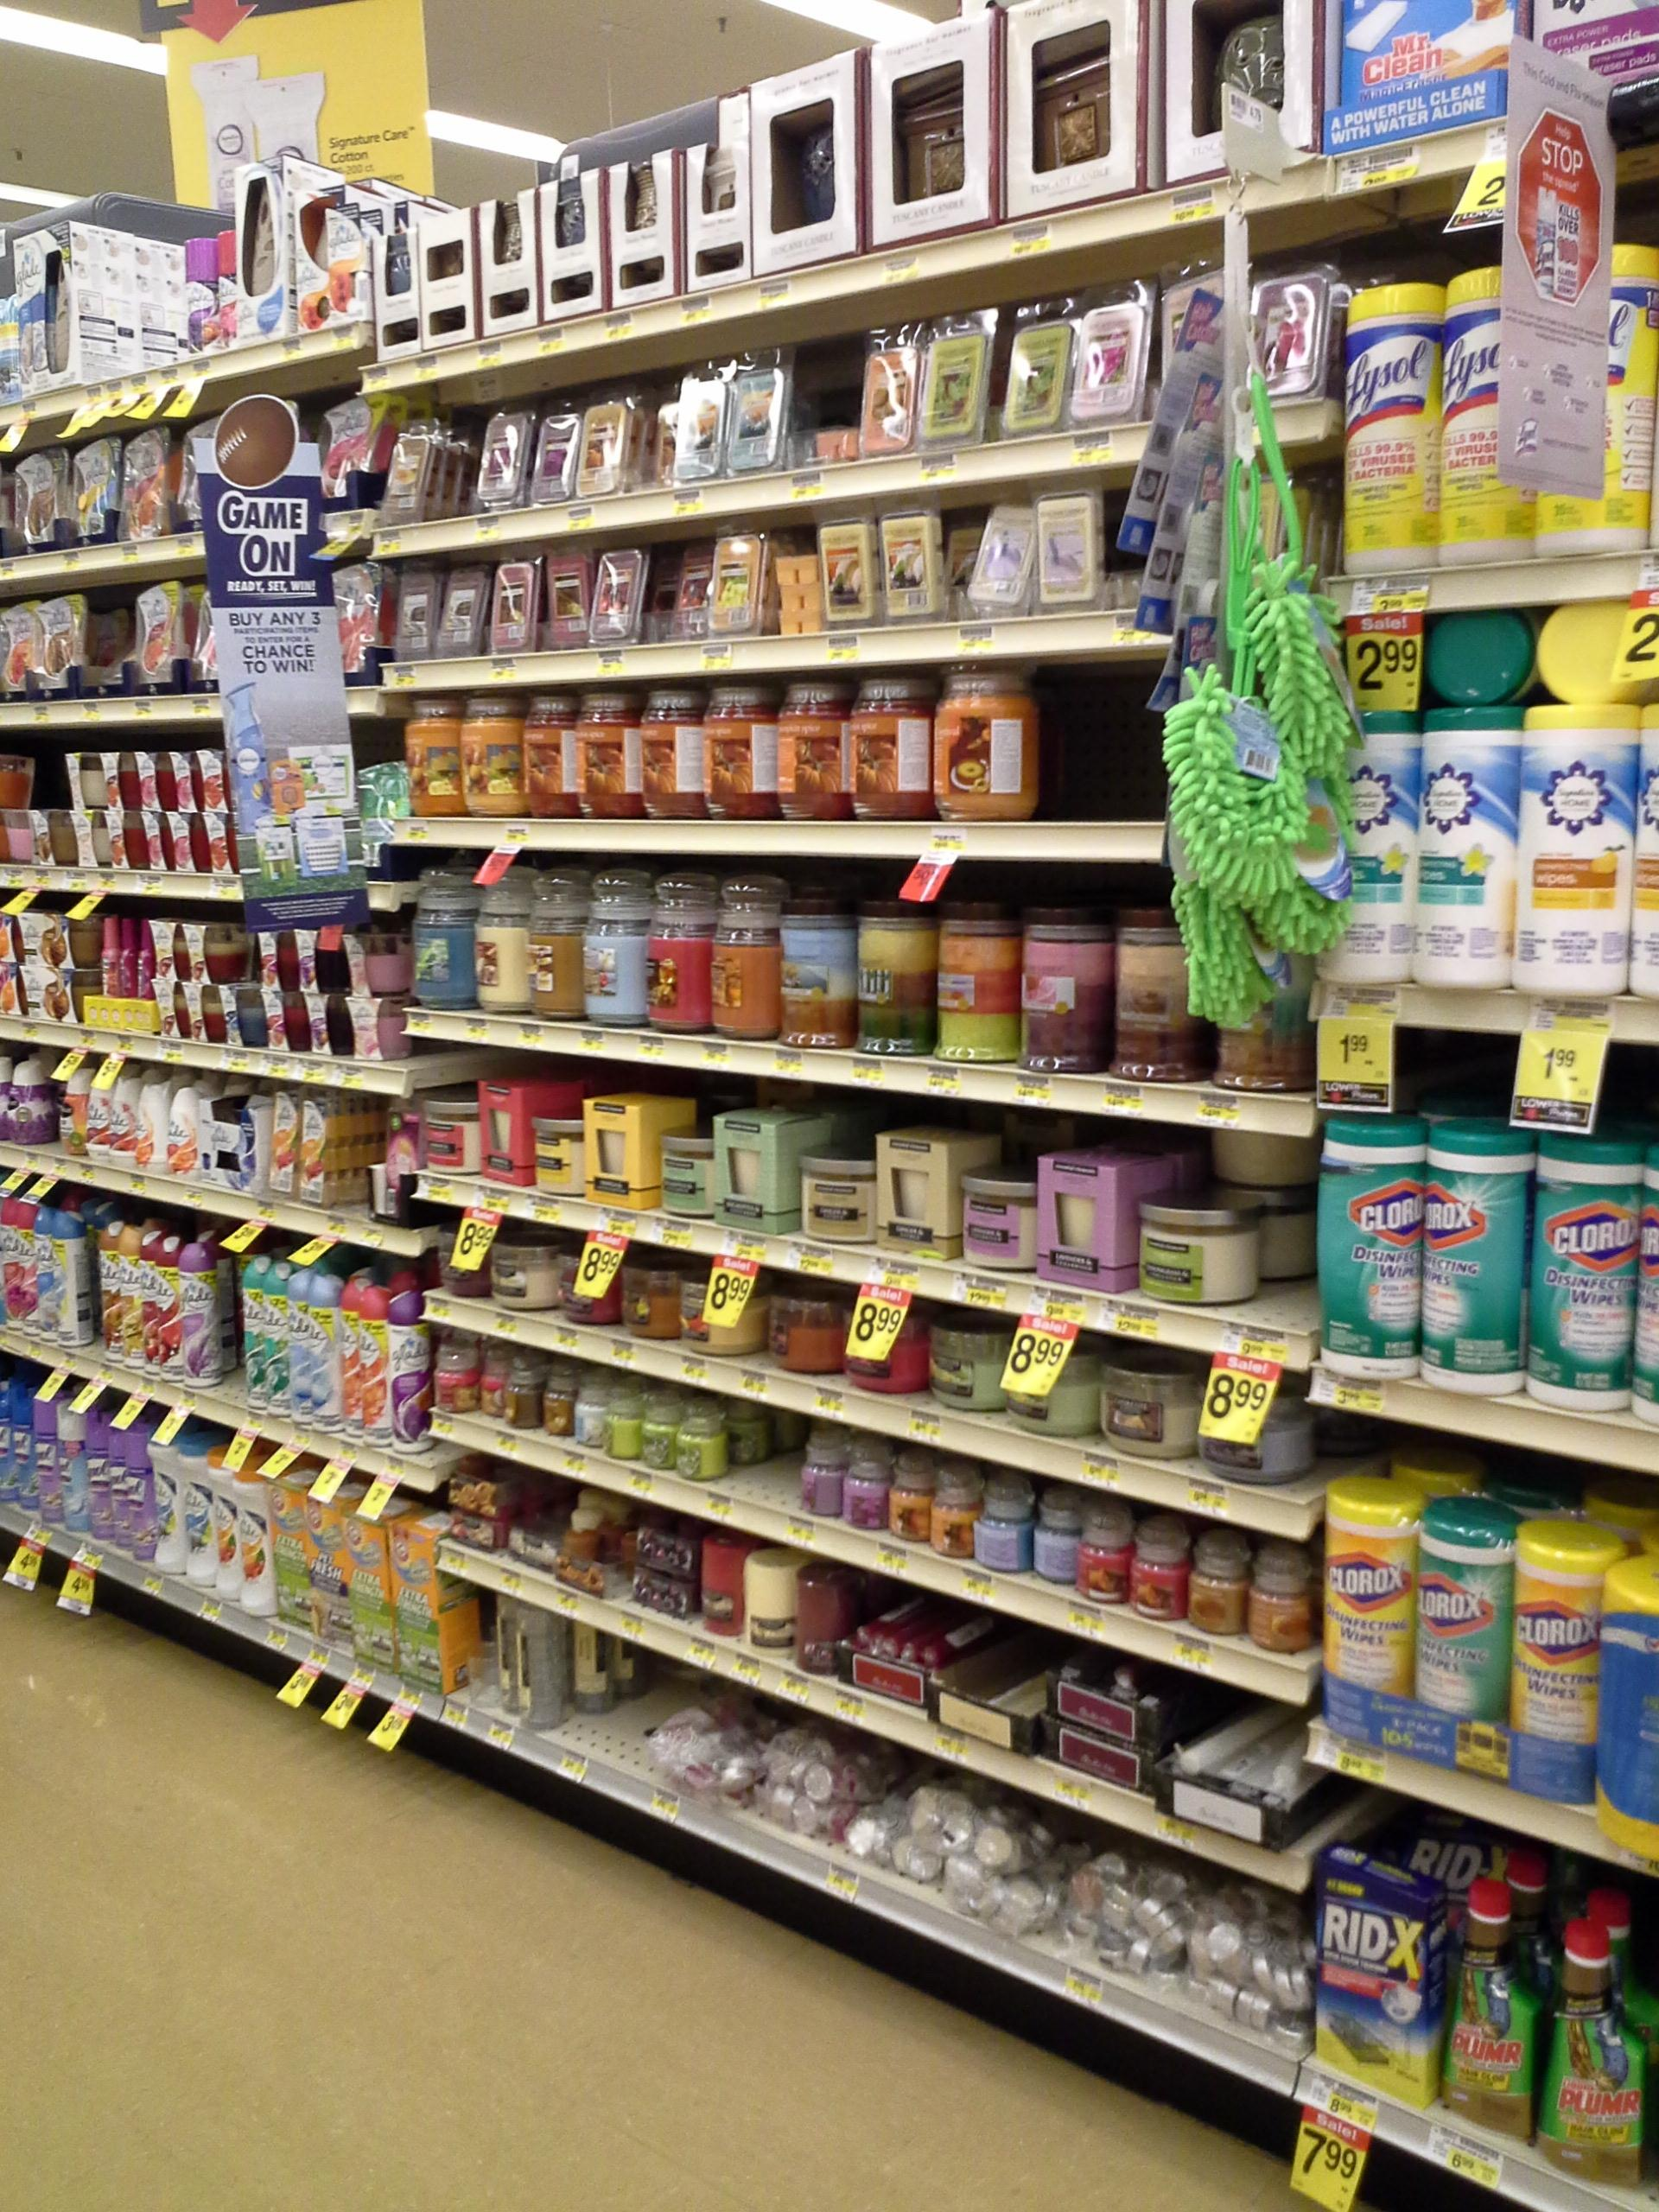empty: (1040, 674, 1161, 820)
